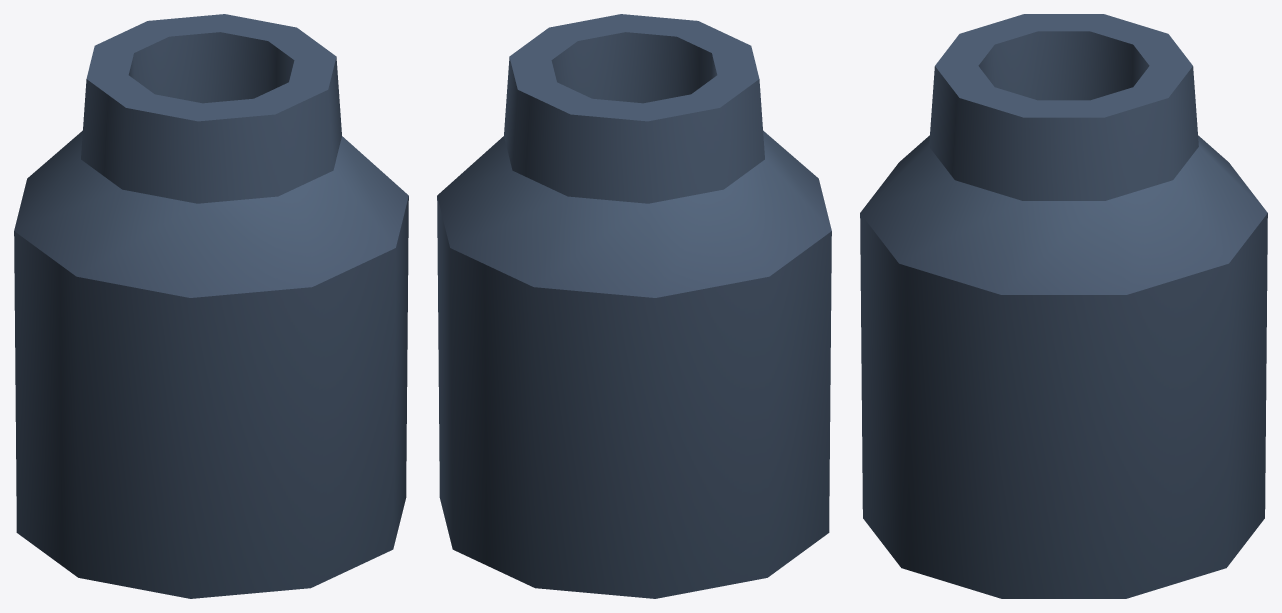
The model's file is Bottle_E.fbx.
3 views of the same model, side by side, from view 1: azimuth 30°, elevation 25°; view 2: azimuth 150°, elevation 25°; view 3: azimuth 270°, elevation 25° (orthographic).
Visible parts, largest first — view 1: Bottle_E; view 2: Bottle_E; view 3: Bottle_E.
Part boxes in pixels (<box>): Bottle_E: <box>14,14,408,598</box>; Bottle_E: <box>437,14,831,598</box>; Bottle_E: <box>860,14,1267,598</box>.
Bounding box in the file's own units: 19.21 × 24.72 × 20.2.
